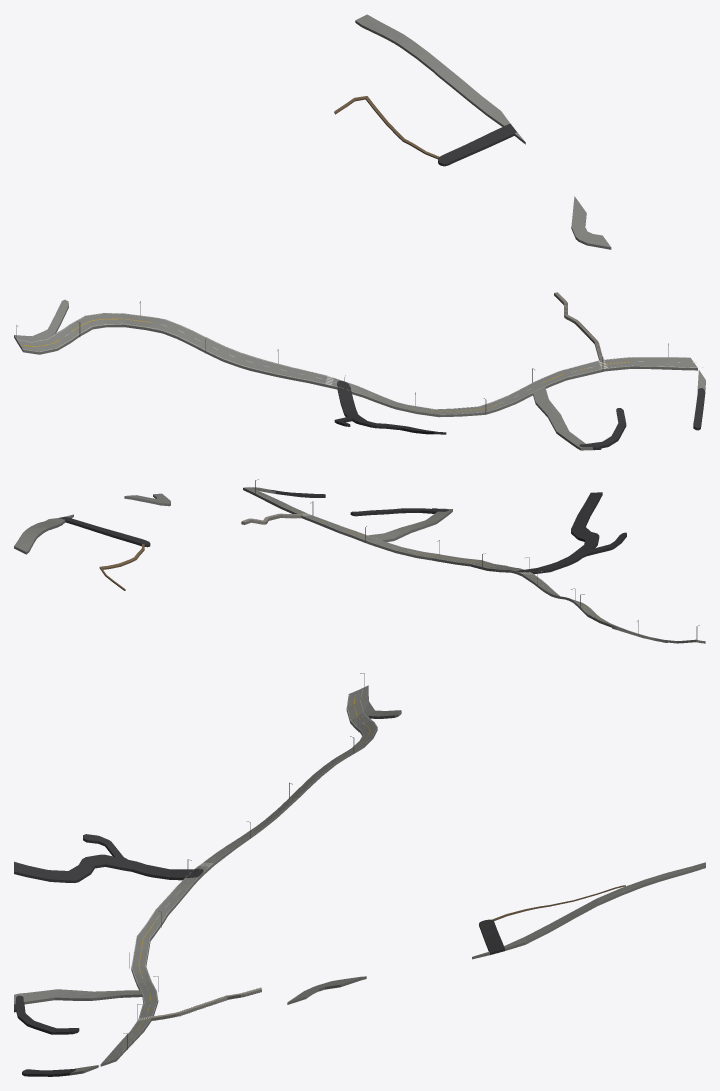
3 renders of one model, top to bottom at view 1: azimuth 30°, elevation 25°; view 2: azimuth 150°, elevation 25°; view 3: azimuth 270°, elevation 25°, orthographic. The views are drawn at different scales.
Bounding box in the file's own units: 297 × 93.81 × 292.
